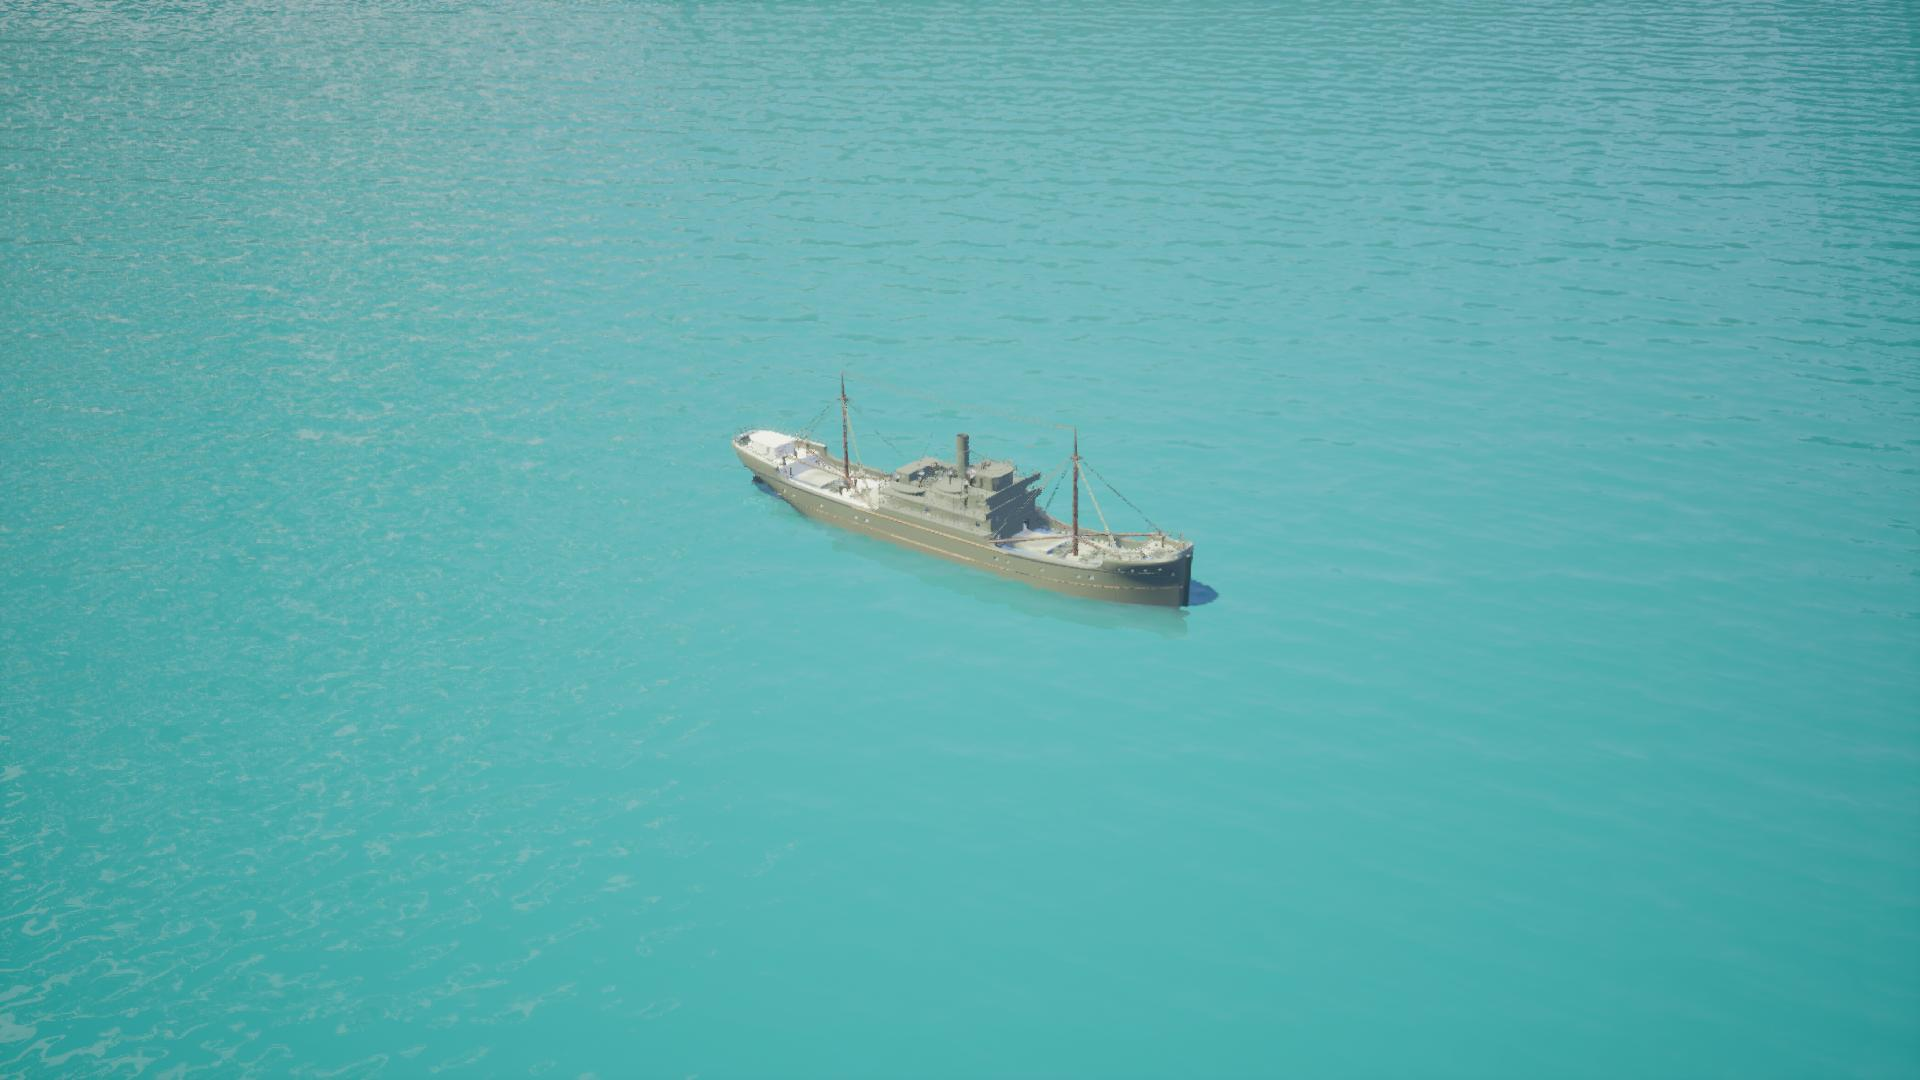Fishing Boat: (727, 425, 1213, 615), (891, 454, 1130, 555)
